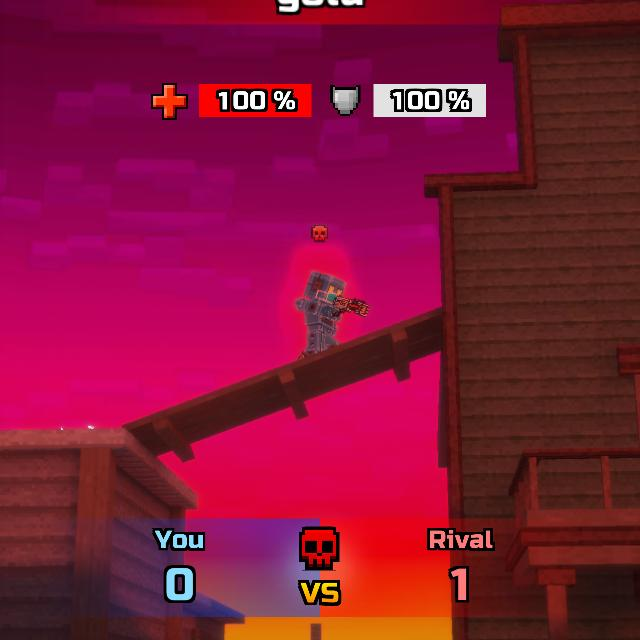Enemy: (292, 270, 365, 353)
